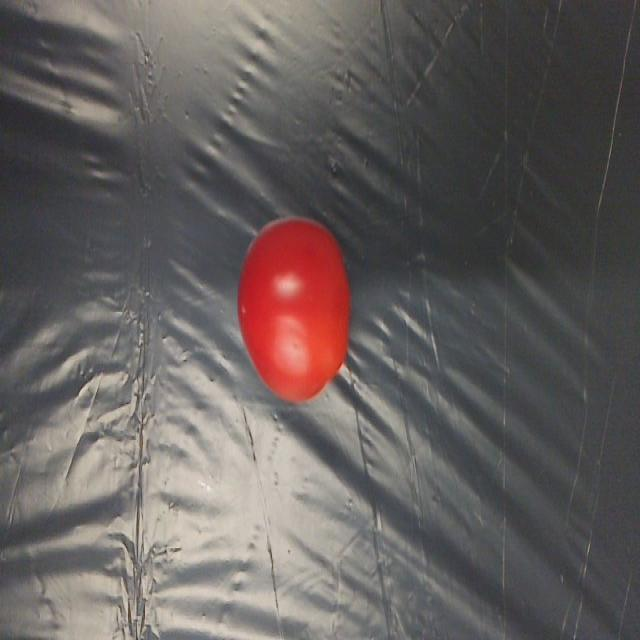kirmizi: (217, 213, 364, 408)
